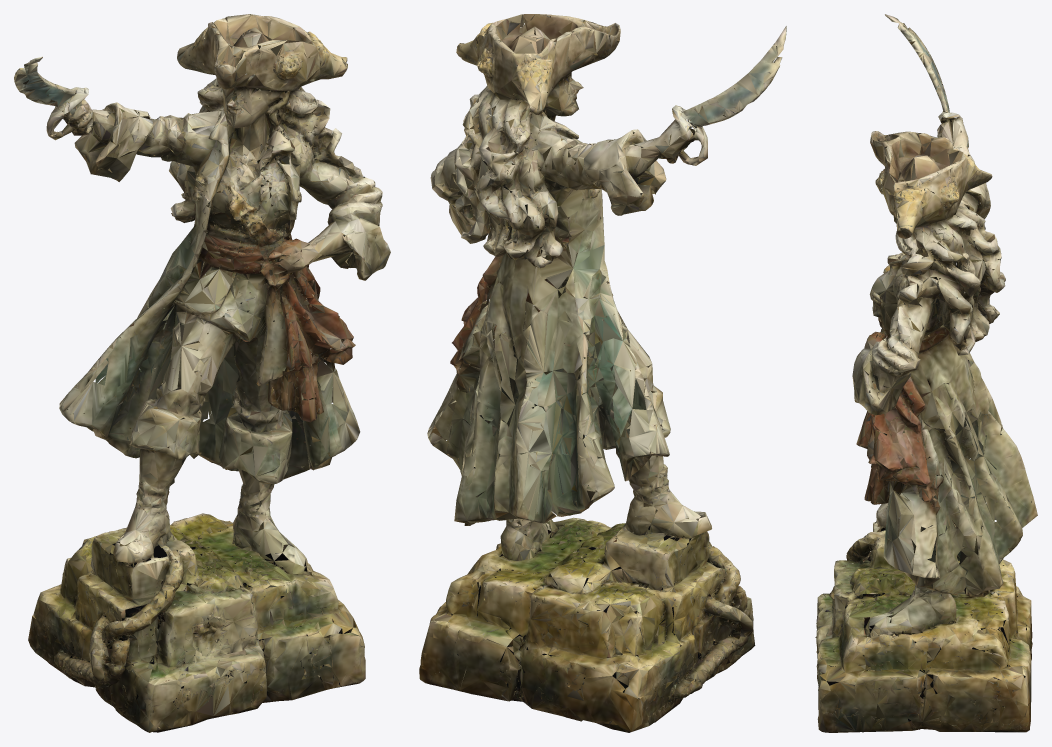
File: pirate-queen-statue.glb
3 views of the same model, side by side, from view 1: azimuth 30°, elevation 25°; view 2: azimuth 150°, elevation 25°; view 3: azimuth 270°, elevation 25° (orthographic). The views are drawn at different scales.
Visible parts, largest first — view 1: pirate-queen-statue; view 2: pirate-queen-statue; view 3: pirate-queen-statue.
Boxes of the visible parts, x1,y1,x2,y2 form: pirate-queen-statue: (14,14,390,732); pirate-queen-statue: (419,14,786,732); pirate-queen-statue: (815,14,1037,732).
Bounding box in the file's own units: 12.24 × 22.03 × 7.46.
1 material, 1 textured.
